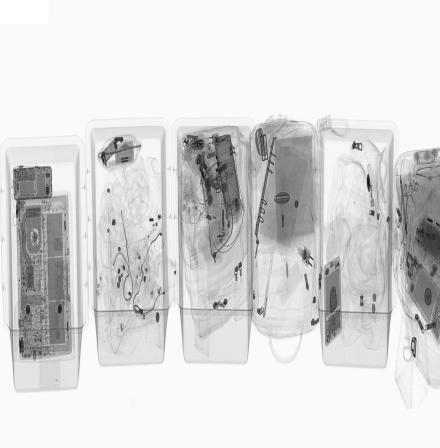Lighter: (367, 163, 375, 207)
